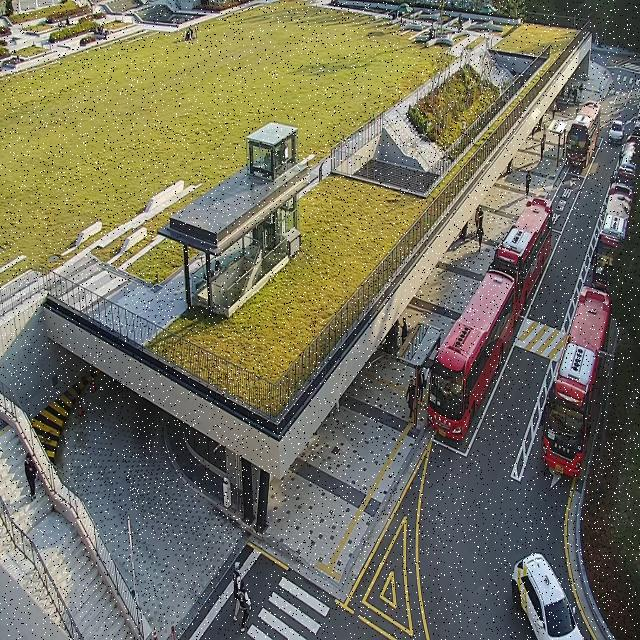queue: (417, 333, 441, 431)
